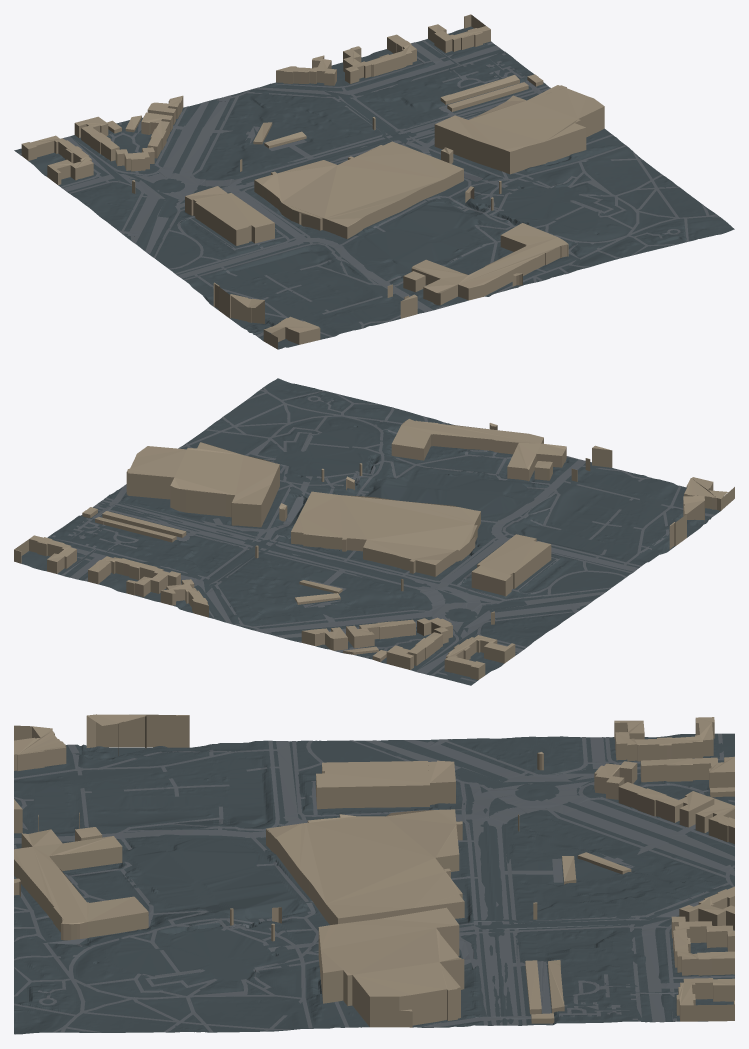
Rendered from epsg26910-1421-10872.lod0.glb.
3 renders of one model, top to bottom at view 1: azimuth 30°, elevation 25°; view 2: azimuth 150°, elevation 25°; view 3: azimuth 270°, elevation 25°, orthographic. The views are drawn at different scales.
Parts seen in each view (by area): view 1: epsg26910-1421-10872-lod0; view 2: epsg26910-1421-10872-lod0; view 3: epsg26910-1421-10872-lod0.
Boxes of the visible parts, box(x1,y1,x2,y2) form: epsg26910-1421-10872-lod0: box(14, 14, 734, 349); epsg26910-1421-10872-lod0: box(14, 378, 734, 685); epsg26910-1421-10872-lod0: box(14, 714, 734, 1034).
Size of the model in its own units: 384 by 32.99 by 384.
